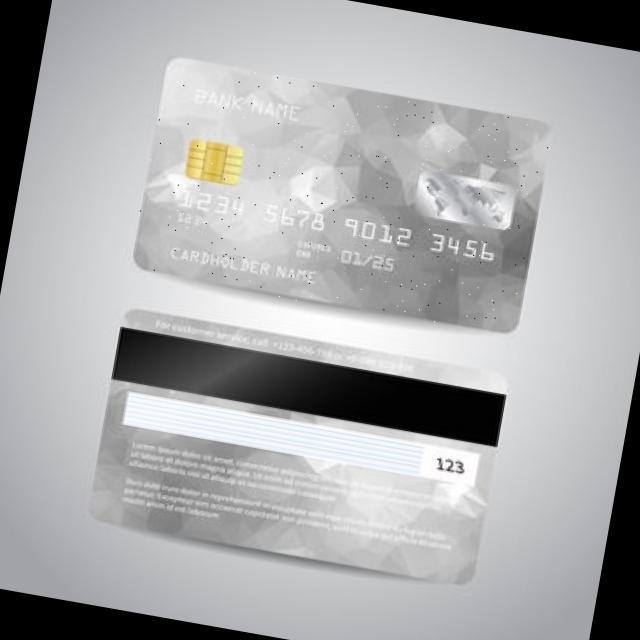payment_card: (87, 308, 508, 586), (132, 55, 553, 333)
